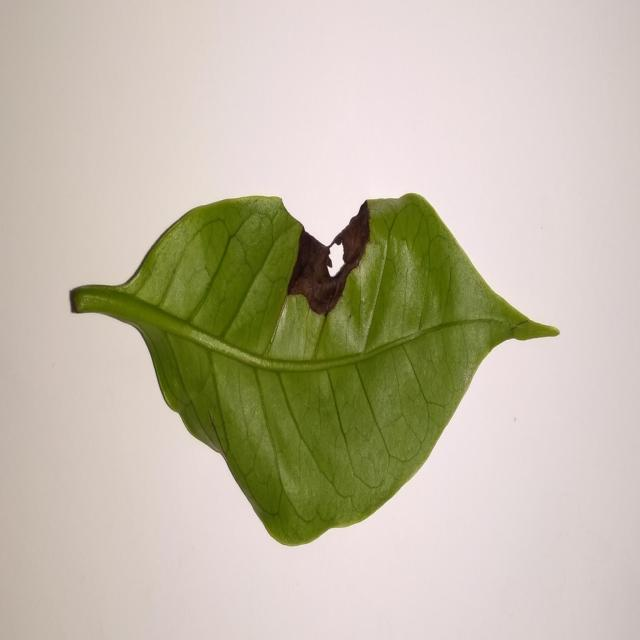Enfermedad-Antracnosis: (68, 193, 560, 549)
